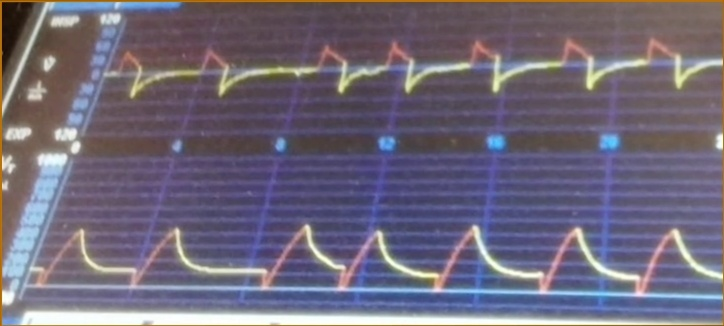Flow: (114, 21, 722, 125)
Leakage Volume: (32, 206, 722, 308)
